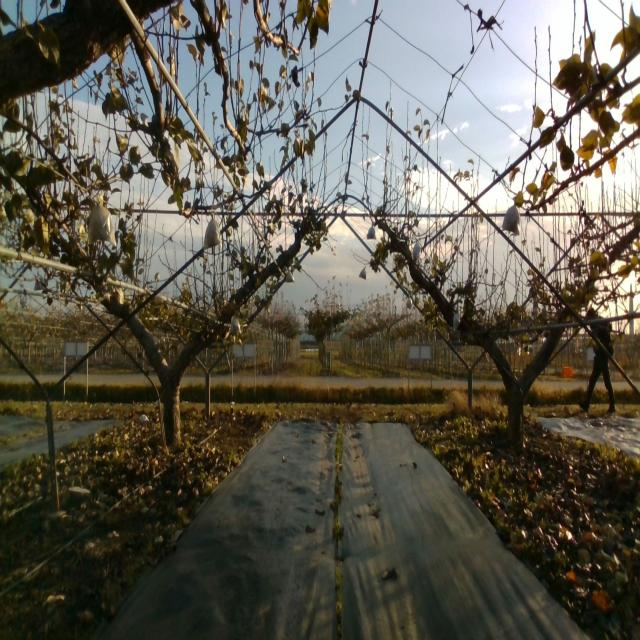pearbags: (86, 192, 116, 247), (202, 211, 222, 251), (502, 198, 522, 235), (411, 242, 422, 262), (230, 317, 241, 336), (366, 222, 376, 240)
